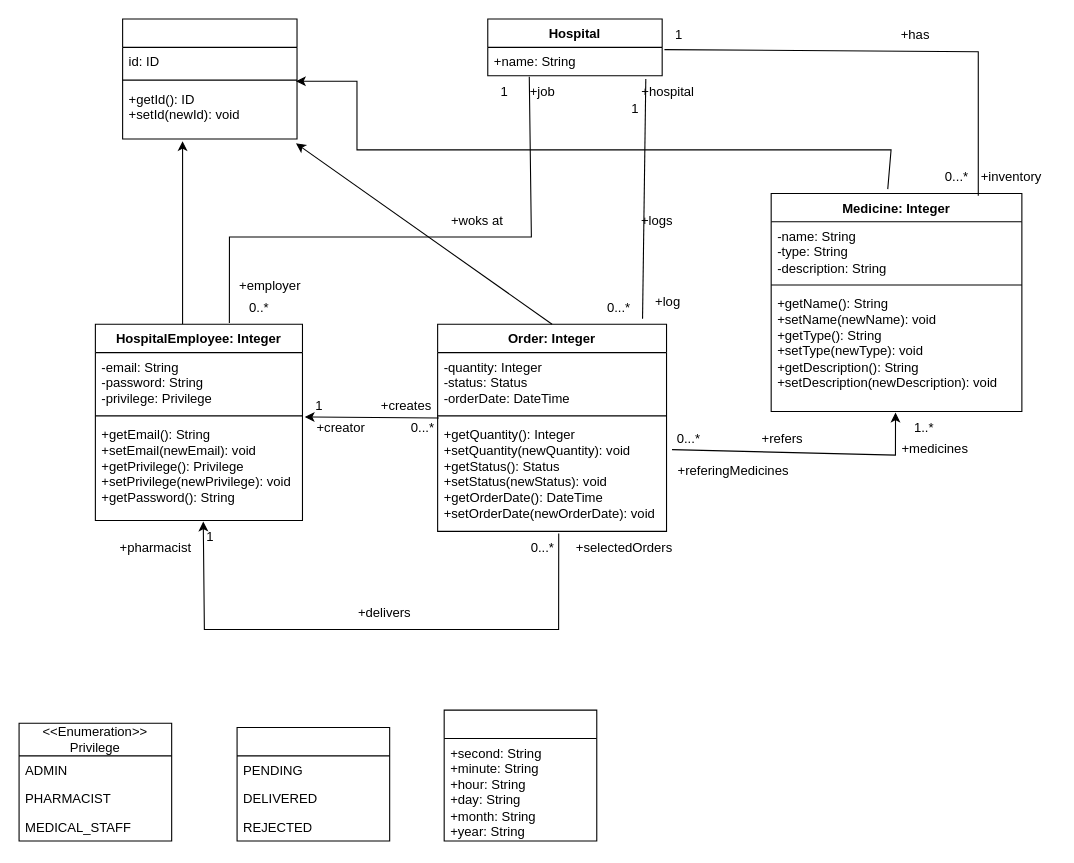
Some shapes in this 1074 by 863 pixel diagram are drawn without their labels. Here are the shapes that lost their labels. From the top down, the box of each, then its label:
(122, 18, 297, 139): Entity<ID>
(236, 726, 390, 841): <<Enumeration>> Status
(443, 709, 597, 841): <<DataType>> DateTime
